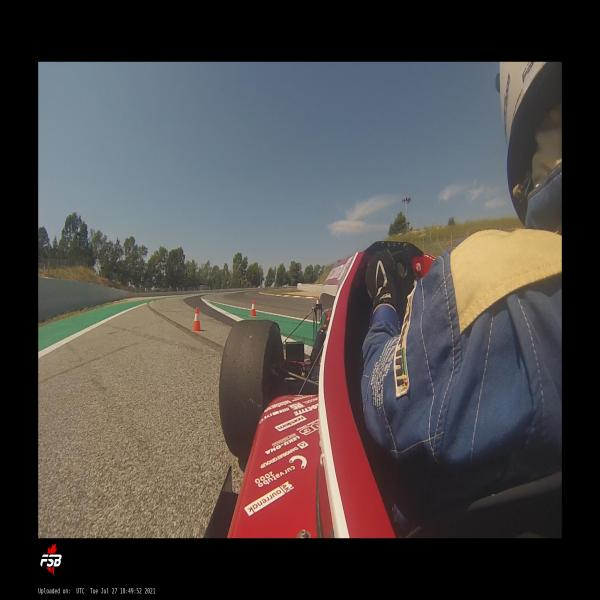orange_cone: (192, 307, 202, 333), (250, 300, 257, 316)
